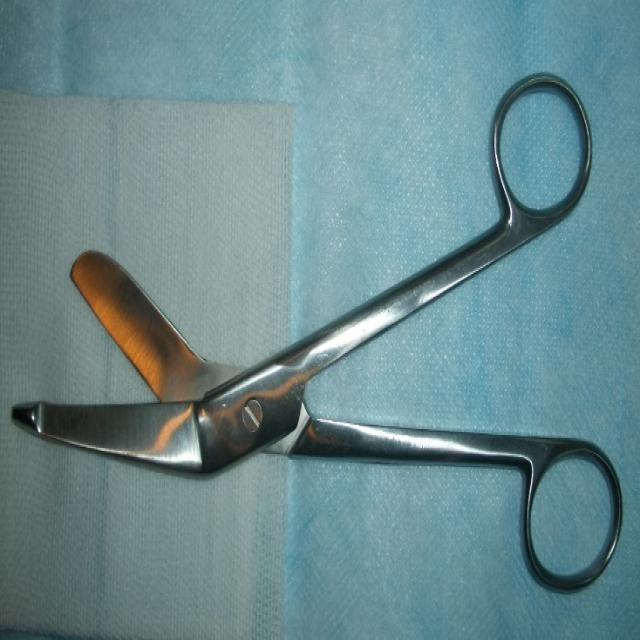Bandage Sciccors: (8, 68, 624, 600)
